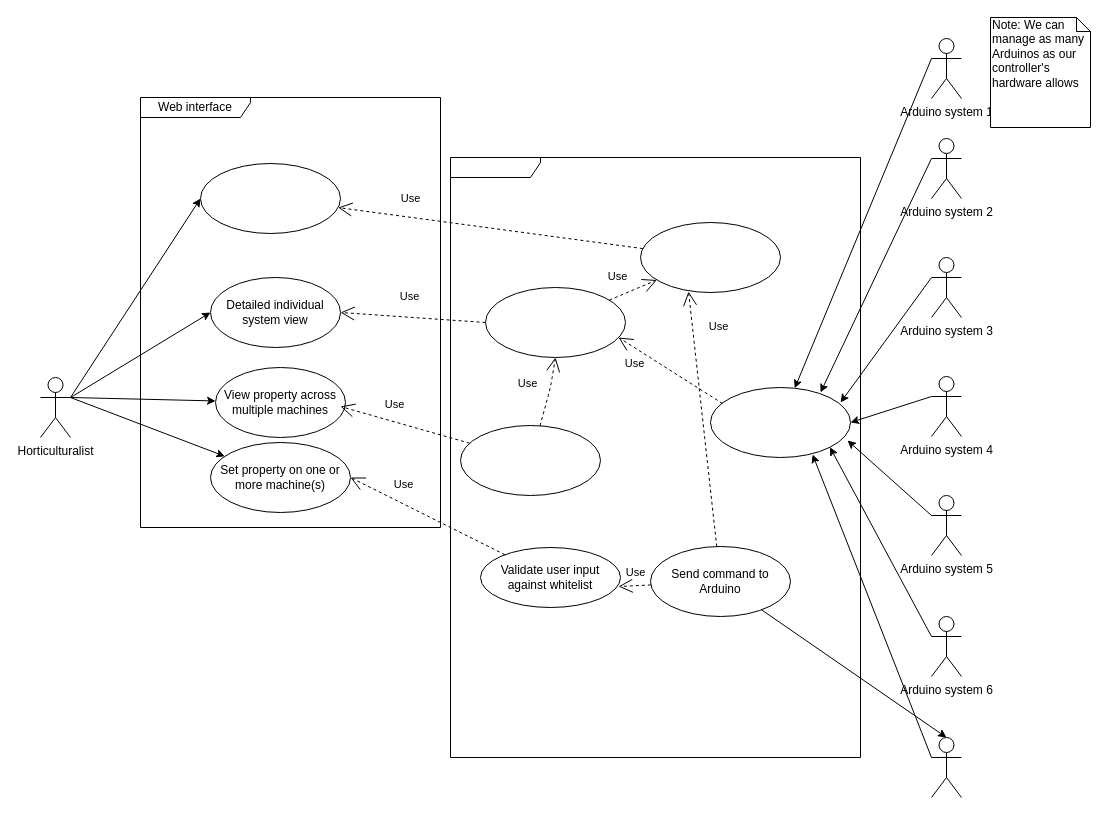
This 1108x836 diagram has some shape labels left out. The box of each missing label's shape, as (x1, y1, x2, y2) in pixels:
Arduino system 7: (930, 736, 962, 798)
Controller: (450, 156, 860, 758)
Gather state information and send: (460, 424, 600, 496)
Store relevant time series data: (640, 222, 780, 292)
Update Arduino proxy object: (484, 286, 626, 358)
Validate and accept state data: (710, 386, 850, 458)
View historical information: (200, 162, 340, 234)
